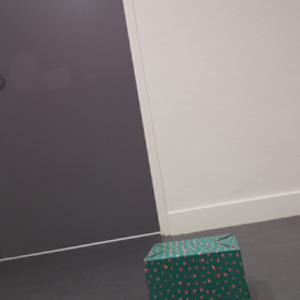small: (142, 233, 252, 300)
